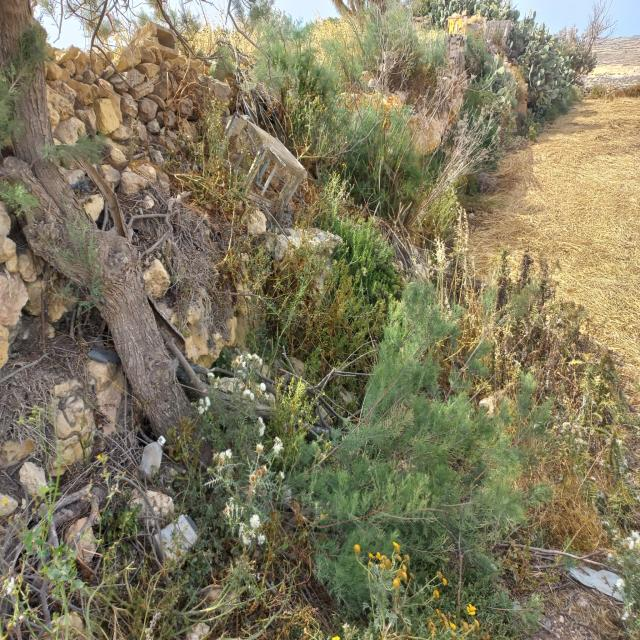Bottle: (563, 564, 627, 602), (133, 436, 167, 481)
Other litter: (208, 114, 308, 216), (152, 513, 200, 569)
Other plastic: (87, 334, 123, 363), (68, 177, 92, 194), (97, 218, 129, 222)
